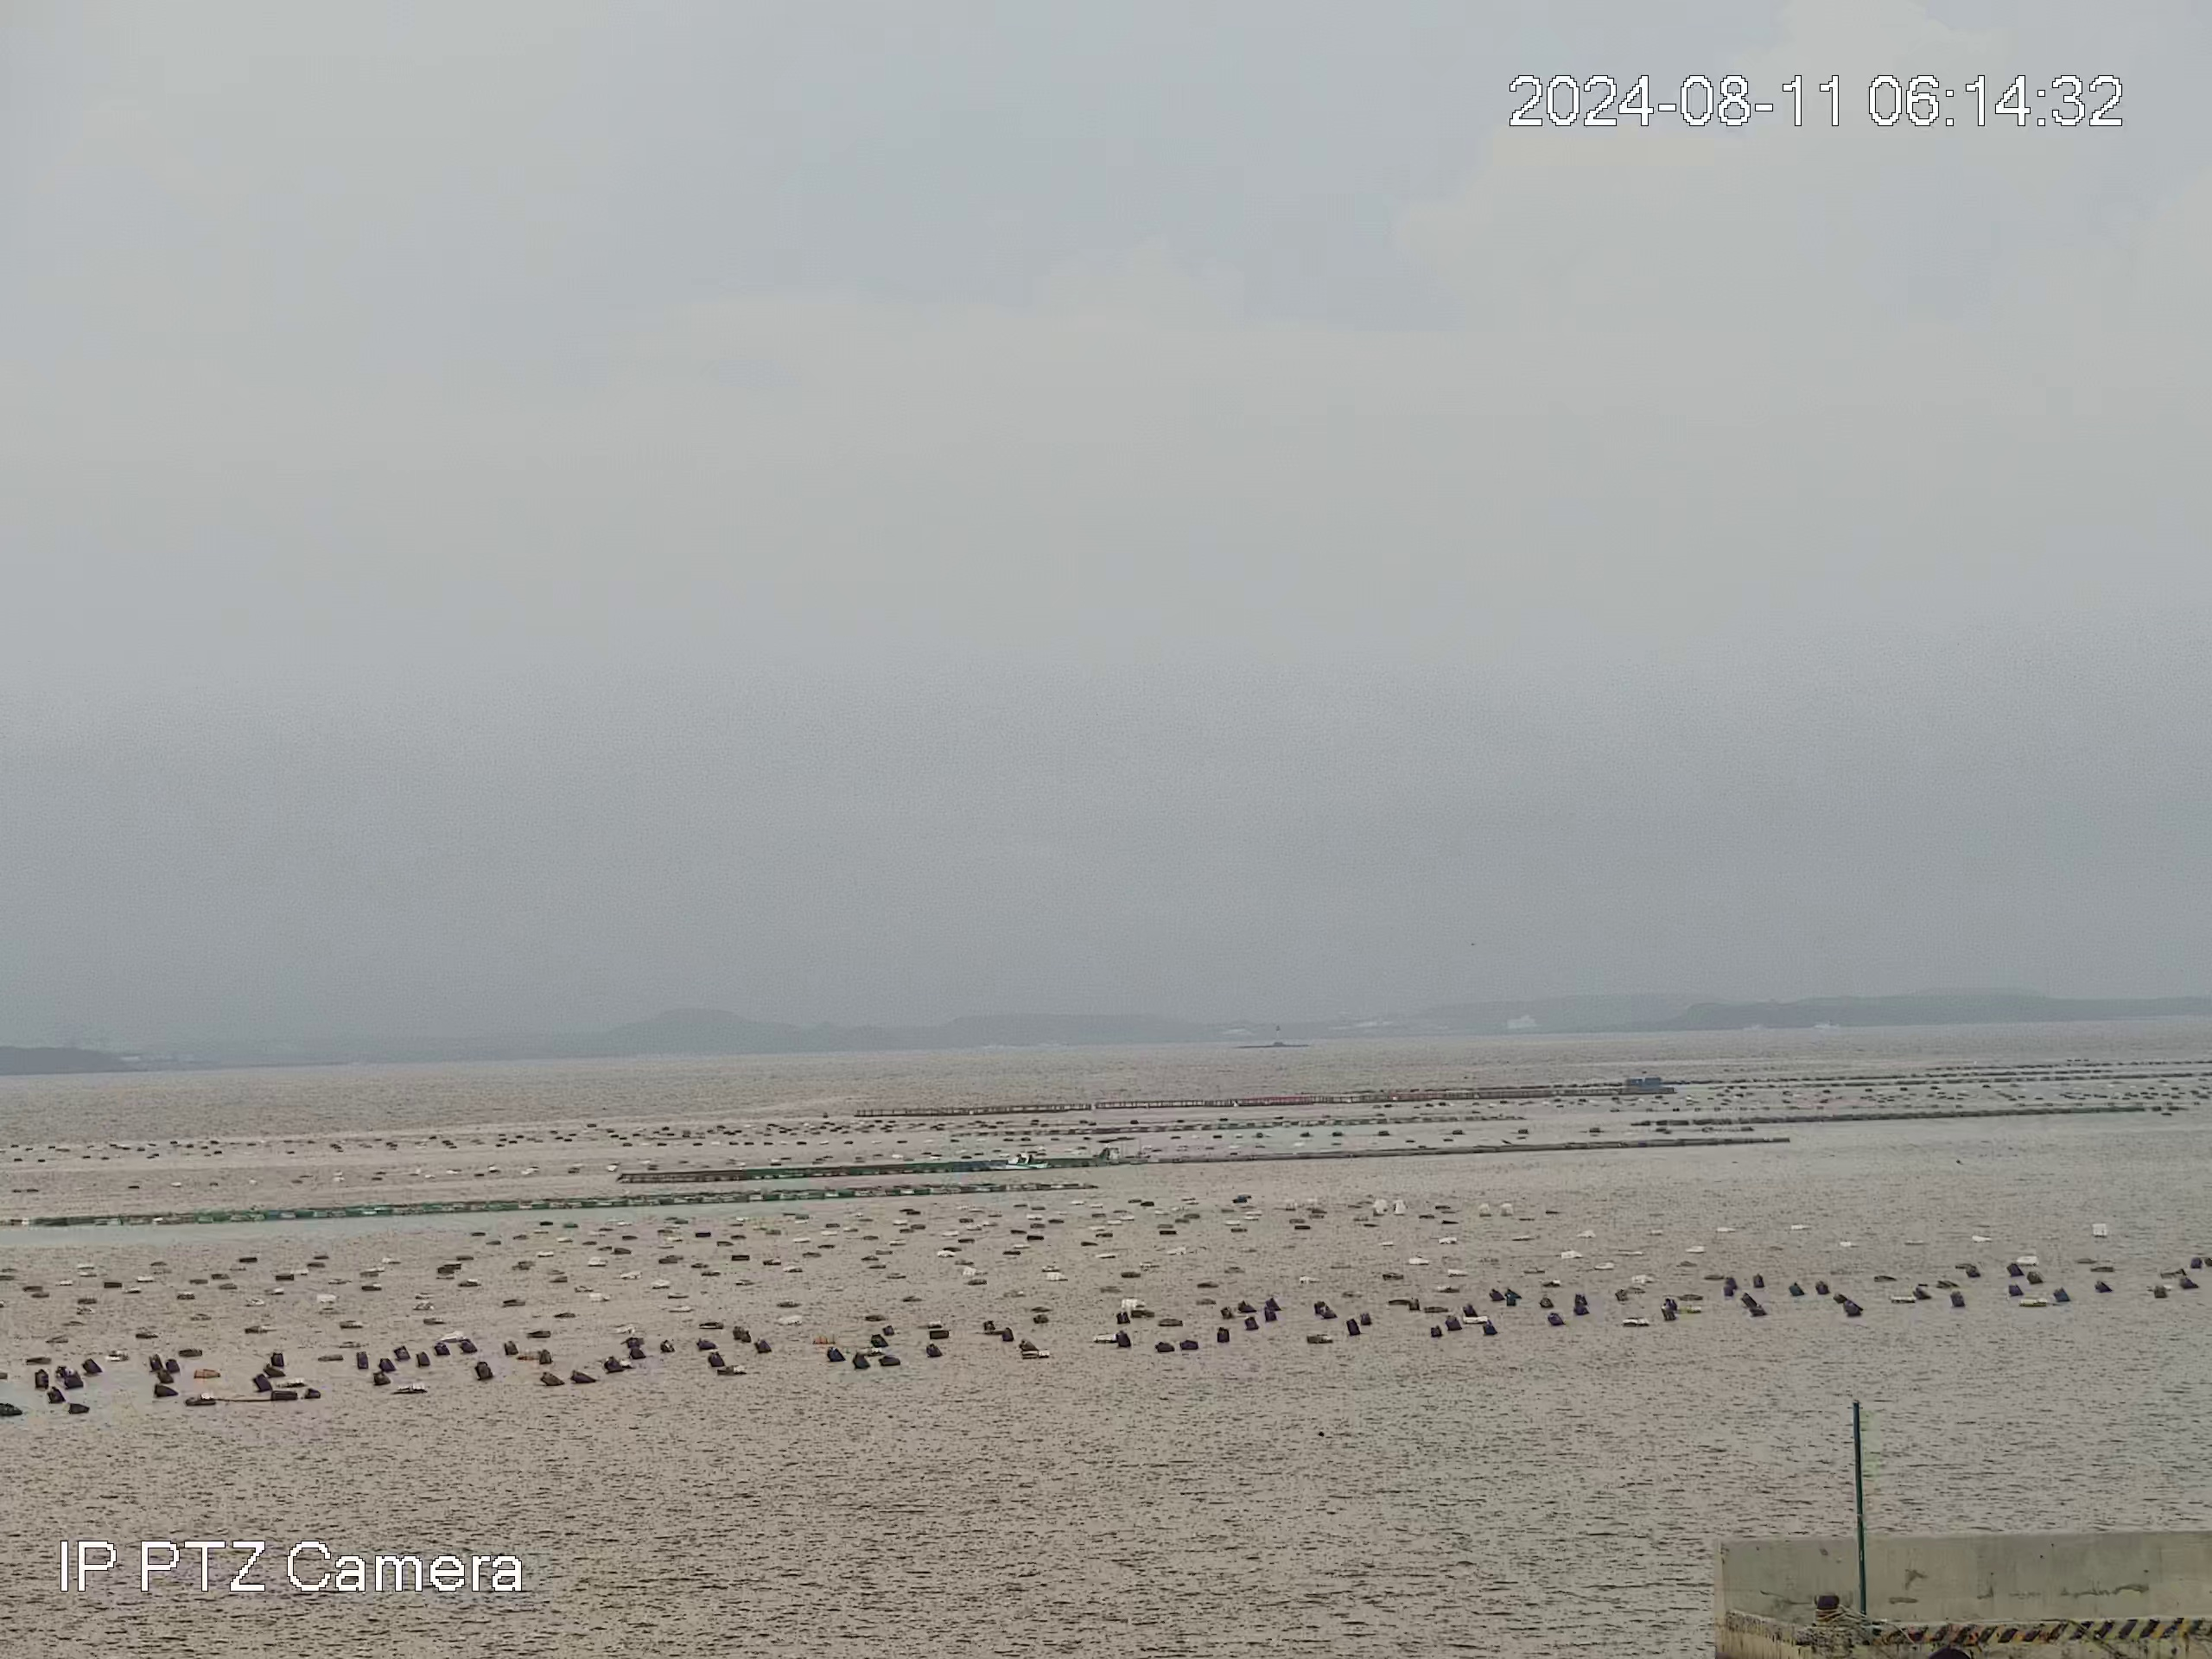boat: (981, 1148, 1054, 1171)
